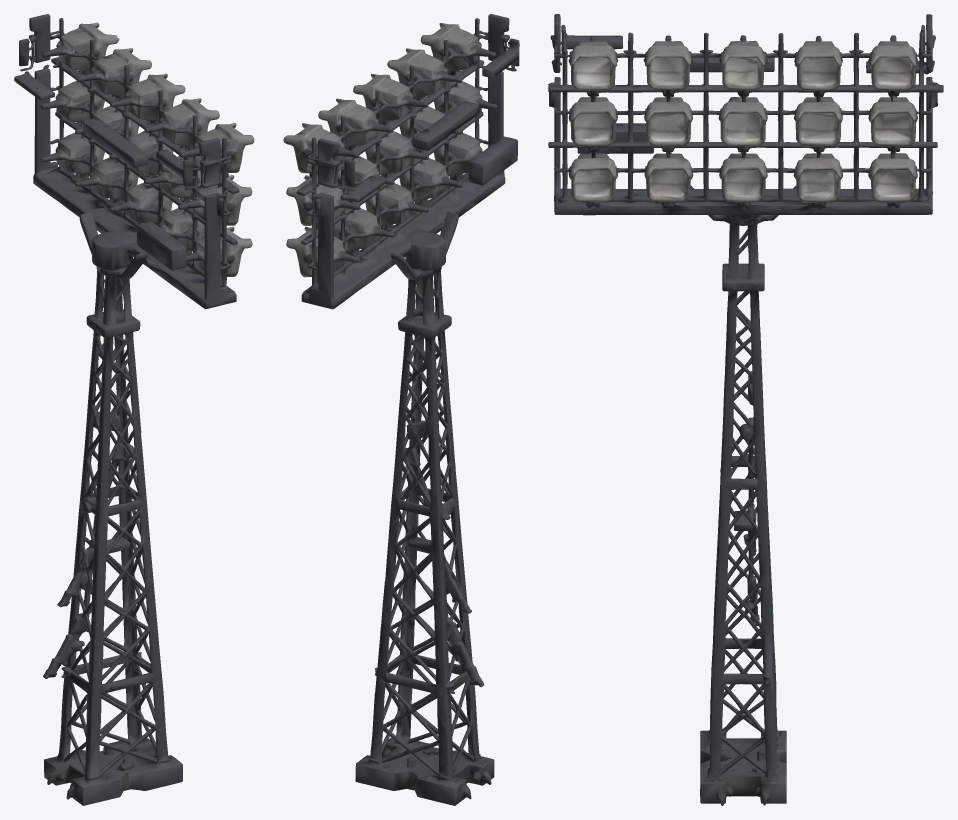
The model's file is floodlight.glb.
3 views of the same model, side by side, from view 1: azimuth 30°, elevation 25°; view 2: azimuth 150°, elevation 25°; view 3: azimuth 270°, elevation 25° (orthographic). The views are drawn at different scales.
Visible parts, largest first — view 1: tripo_node_98a4e801-bac0-4bb4-951a-478b99508647; view 2: tripo_node_98a4e801-bac0-4bb4-951a-478b99508647; view 3: tripo_node_98a4e801-bac0-4bb4-951a-478b99508647.
Boxes of the visible parts, x1=… form: tripo_node_98a4e801-bac0-4bb4-951a-478b99508647: x1=14, y1=14, x2=254, y2=805; tripo_node_98a4e801-bac0-4bb4-951a-478b99508647: x1=283, y1=14, x2=519, y2=805; tripo_node_98a4e801-bac0-4bb4-951a-478b99508647: x1=548, y1=14, x2=943, y2=805.
Size of the model in its own units: 0.1916 by 0.9999 by 0.4689.
1 material, 1 textured.
